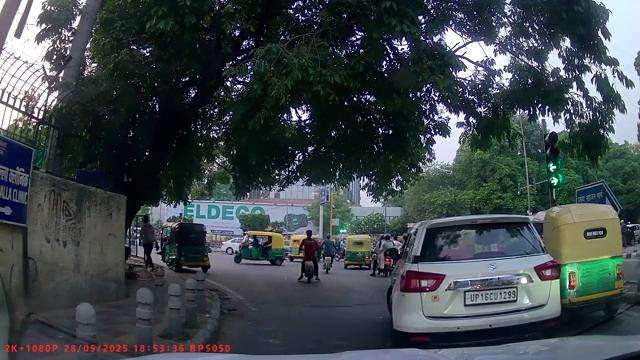motorcycle_without_helmet: (296, 229, 322, 284)
